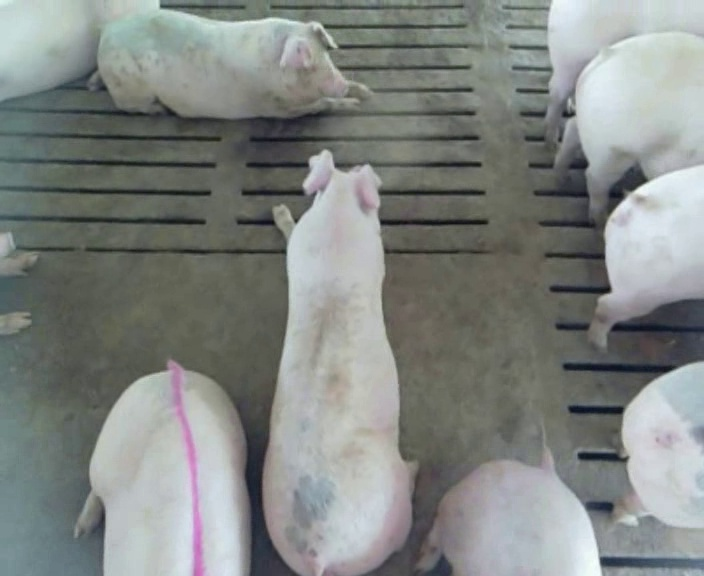pig: (263, 150, 416, 574), (75, 361, 250, 574), (98, 10, 370, 117), (555, 32, 703, 223), (415, 445, 600, 574), (545, 2, 703, 142), (588, 165, 703, 349), (613, 362, 703, 527)
